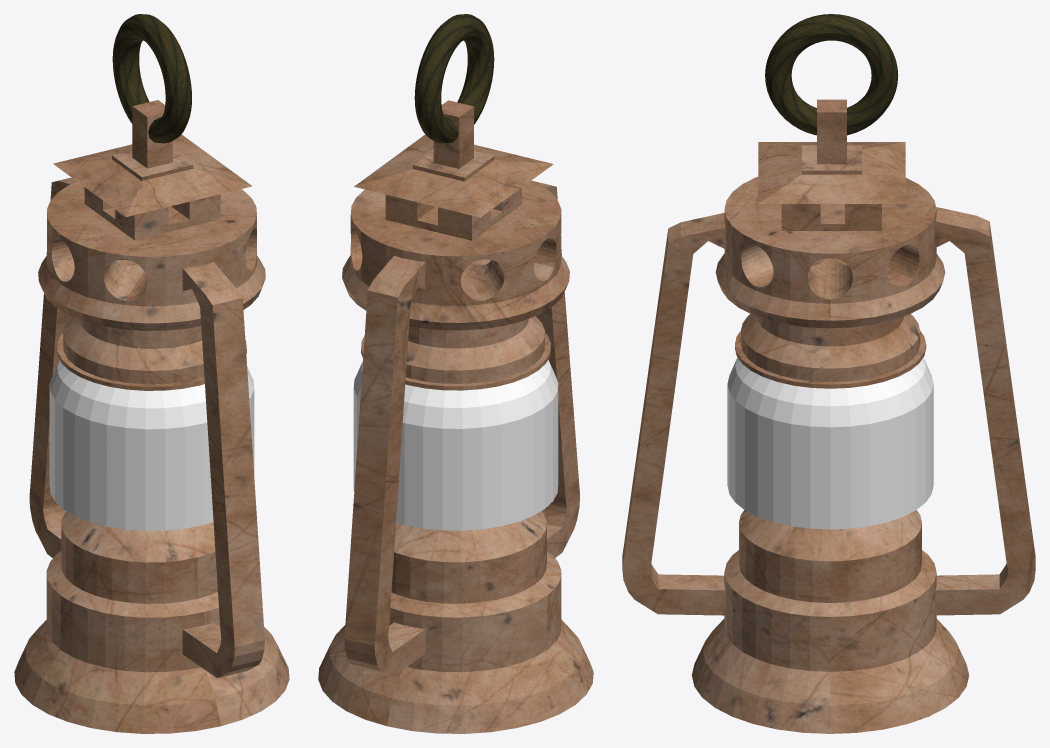
The model's file is latern.glb.
The picture shows the model from 3 angles, left to right: view 1: azimuth 30°, elevation 25°; view 2: azimuth 150°, elevation 25°; view 3: azimuth 270°, elevation 25°; orthographic projection.
Parts seen in each view (by area): view 1: Cube.001, Handle; view 2: Cube.001, Handle; view 3: Cube.001, Handle.
Part boxes in pixels (x1=…): Cube.001: x1=14, y1=100, x2=289, y2=733; Handle: x1=112, y1=14, x2=191, y2=143; Cube.001: x1=318, y1=100, x2=593, y2=733; Handle: x1=414, y1=14, x2=494, y2=143; Cube.001: x1=622, y1=99, x2=1035, y2=733; Handle: x1=765, y1=14, x2=898, y2=135.
Size of the model in its own units: 0.7723 by 2.03 by 1.15.
Materials: 3 (2 with a texture image).
